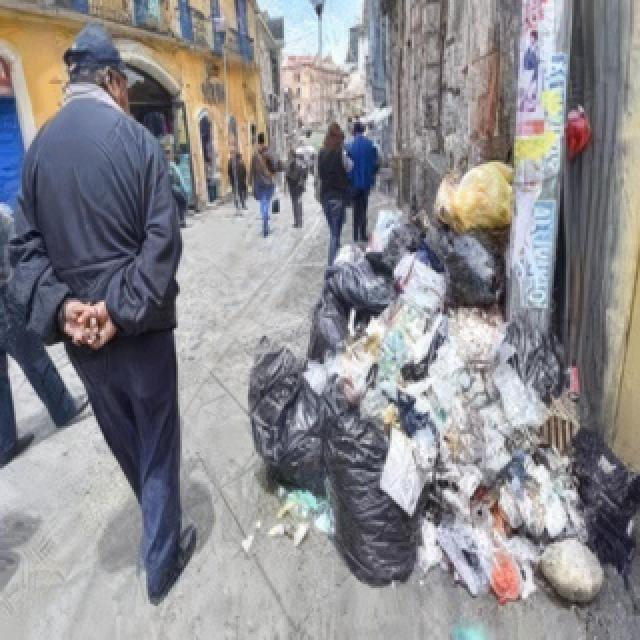Trashbag: (325, 415, 420, 584), (248, 338, 337, 492), (301, 256, 399, 360), (574, 450, 638, 550), (440, 227, 505, 313), (380, 222, 430, 269)
